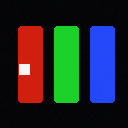1 square: (19, 64, 29, 74)
